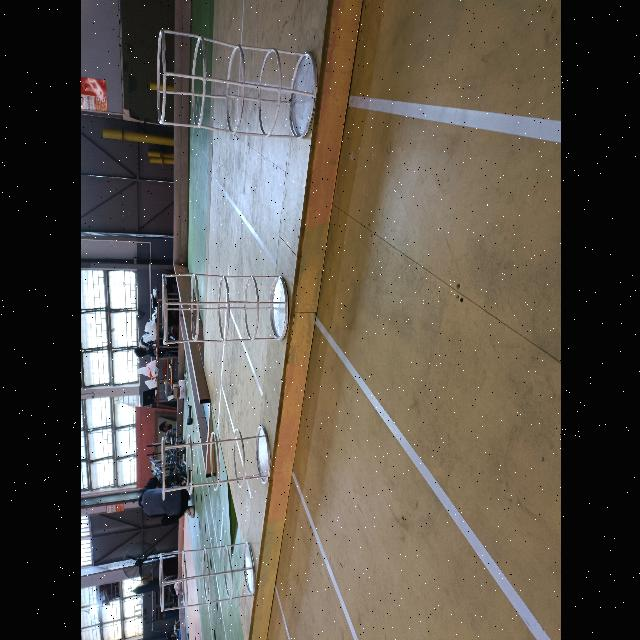S: (154, 27, 319, 142), (159, 272, 290, 347), (159, 425, 271, 501), (157, 540, 256, 614)
